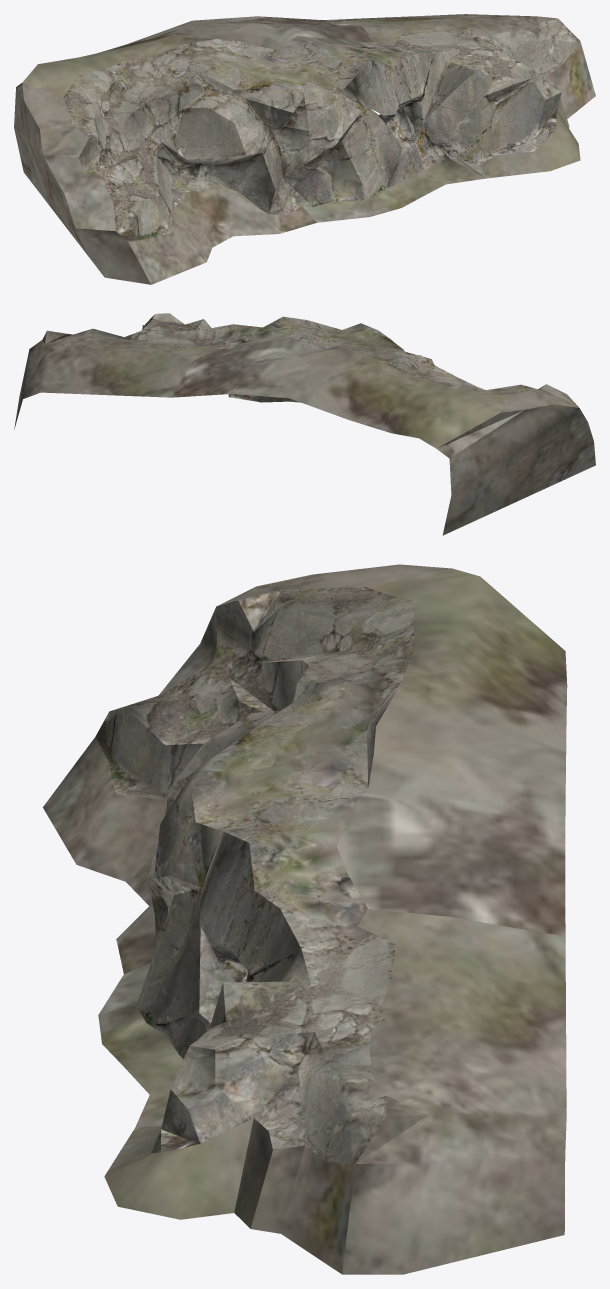
File: rock_31.glb
3 renders of one model, top to bottom at view 1: azimuth 30°, elevation 25°; view 2: azimuth 150°, elevation 25°; view 3: azimuth 270°, elevation 25°, orthographic. The views are drawn at different scales.
Parts seen in each view (by area): view 1: Rock_31_LOD5; view 2: Rock_31_LOD5; view 3: Rock_31_LOD5.
Part boxes in pixels (x1,y1,x2,y2): Rock_31_LOD5: [14, 14, 595, 284]; Rock_31_LOD5: [14, 313, 595, 535]; Rock_31_LOD5: [43, 564, 567, 1274].
Bounding box in the file's own units: 3.87 × 0.8793 × 1.68.
Materials: 1 (1 with a texture image).
